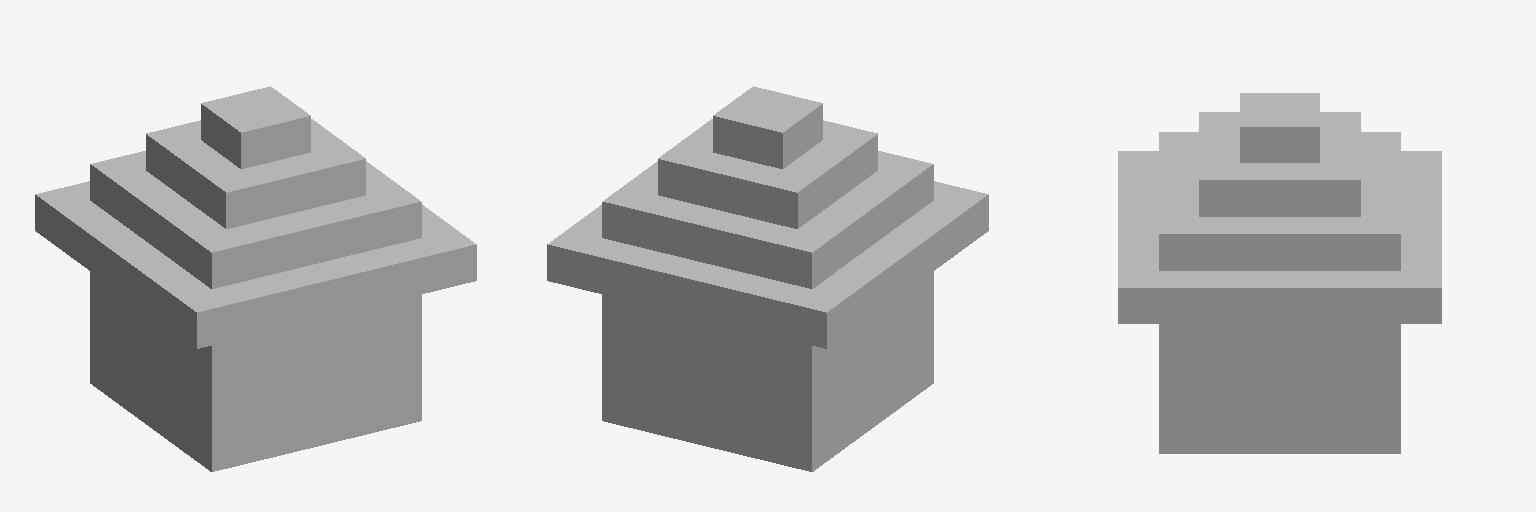
The model's file is house.obj.
3 renders of one model, left to right at view 1: azimuth 30°, elevation 25°; view 2: azimuth 150°, elevation 25°; view 3: azimuth 270°, elevation 25°, orthographic.
Size of the model in its own units: 8 by 8 by 8.